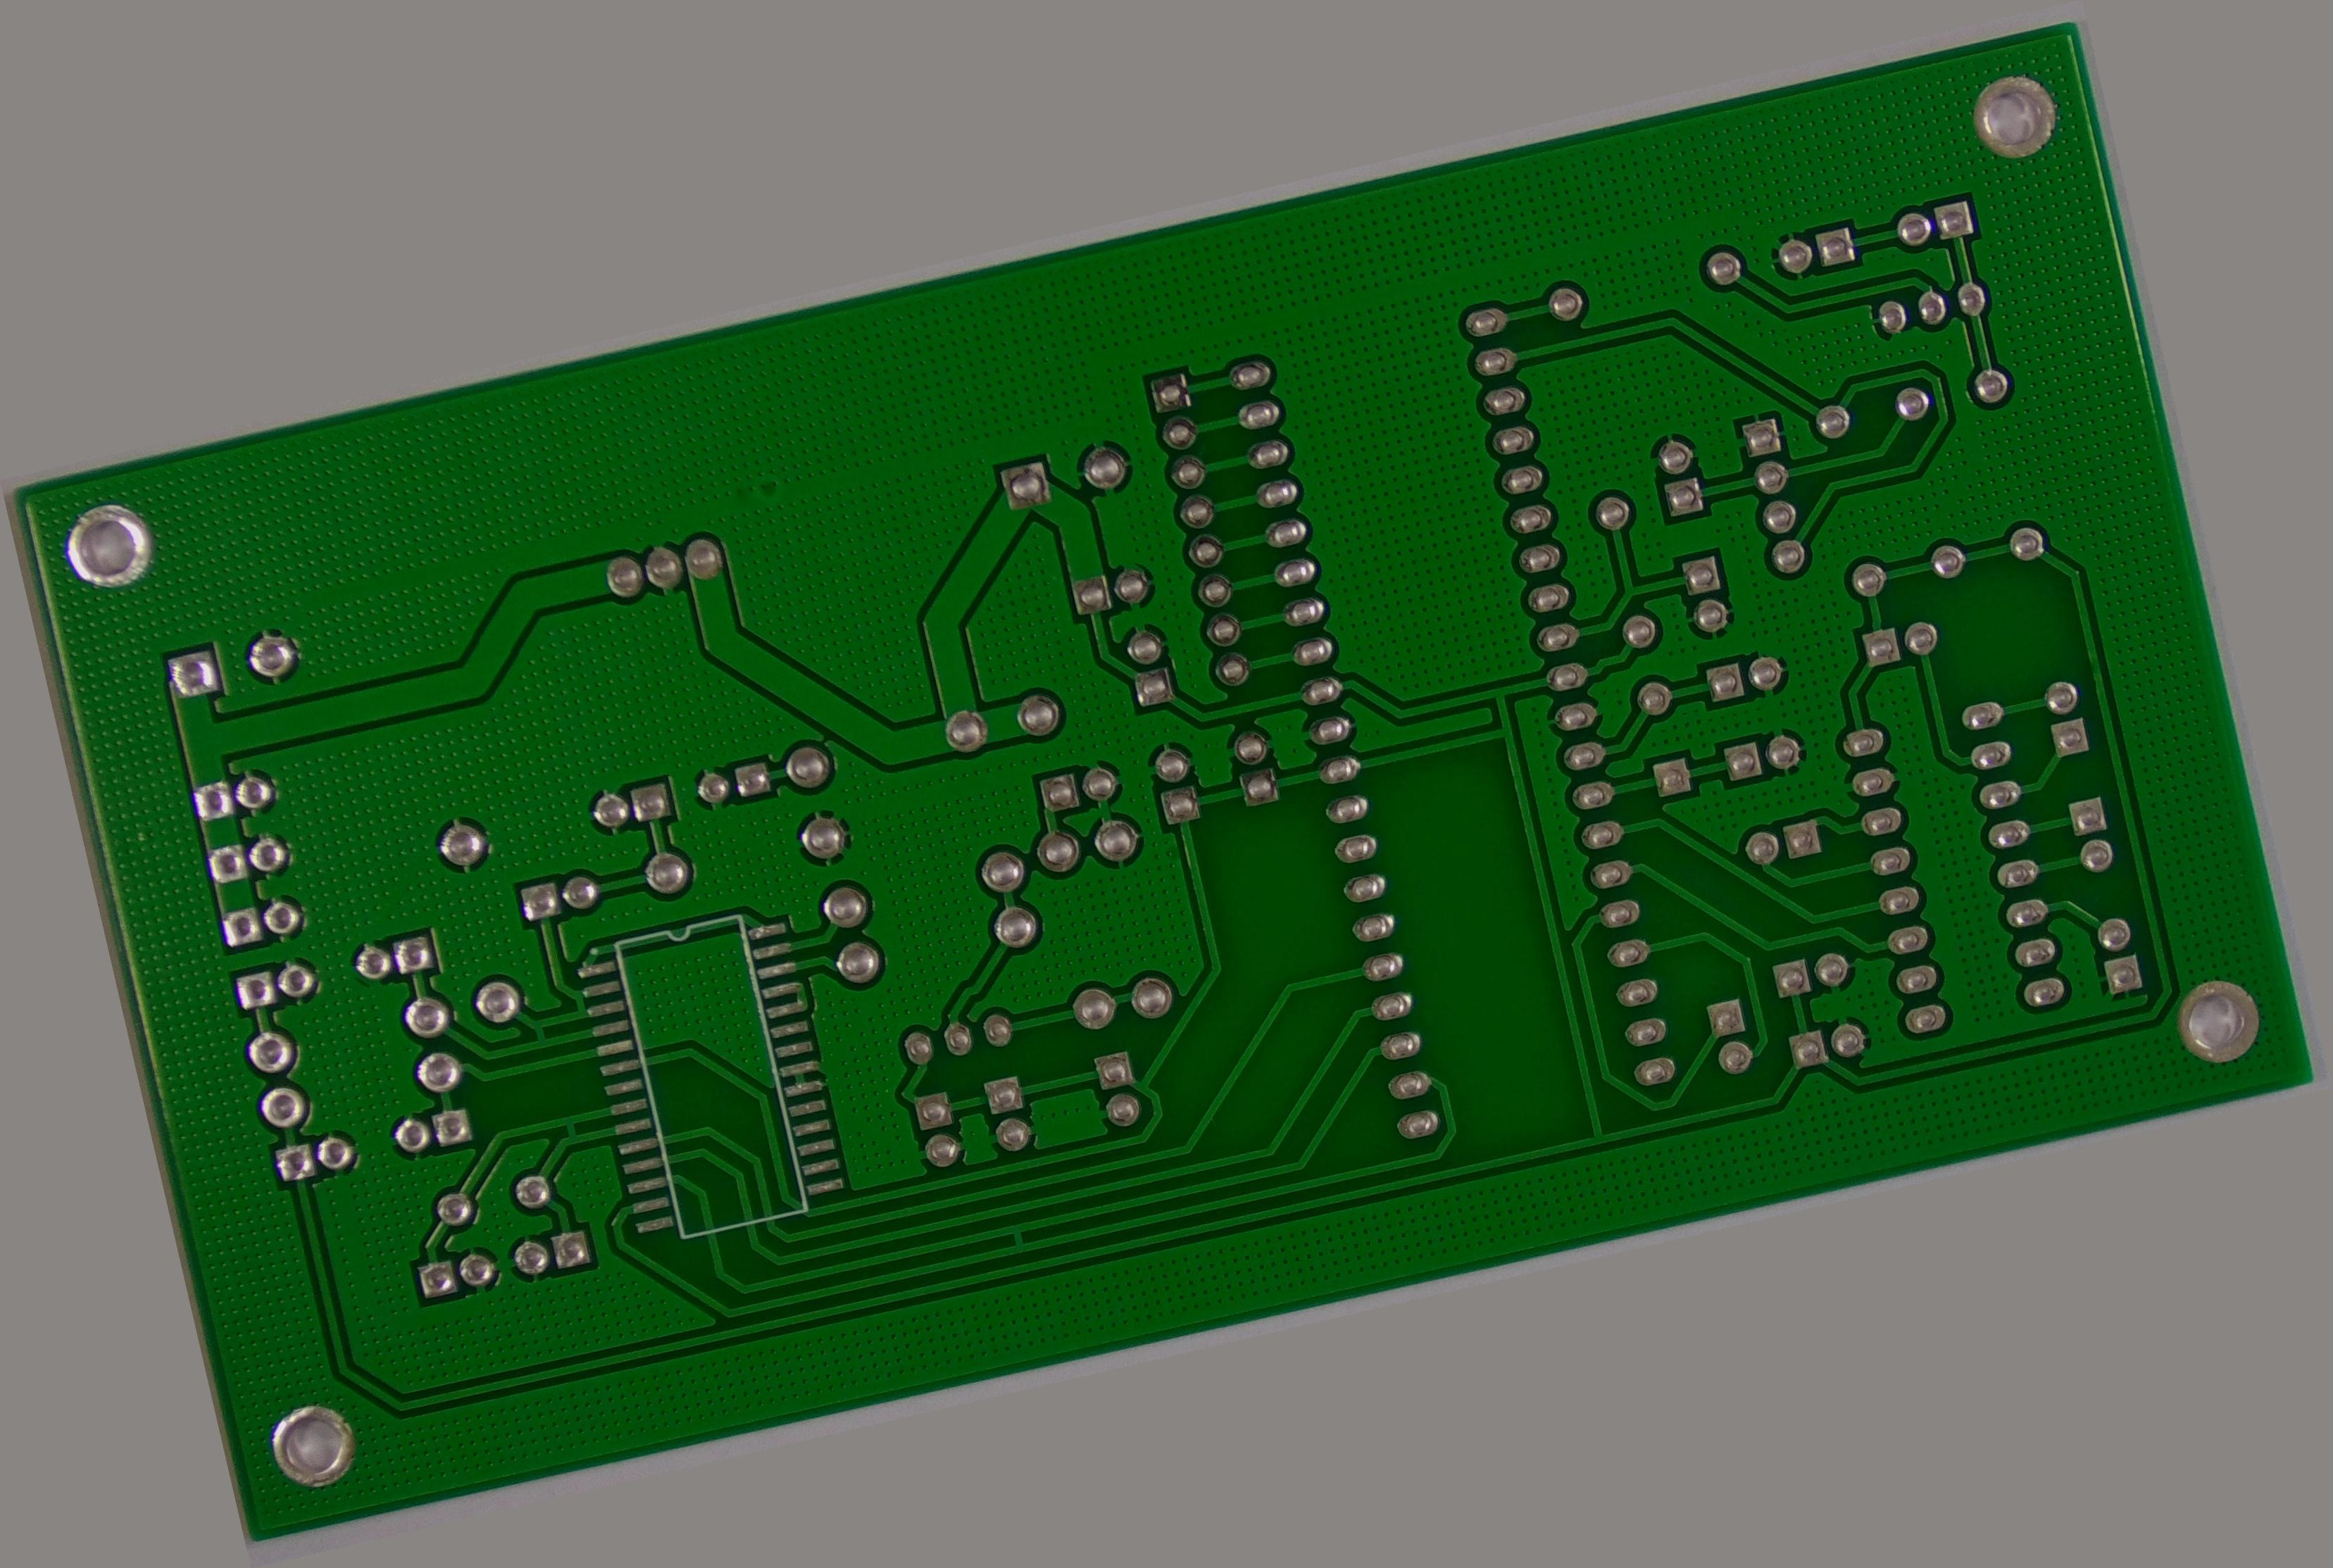short: (513, 1004, 562, 1057), (994, 1214, 1040, 1265), (550, 1106, 588, 1152), (562, 984, 597, 1020)
